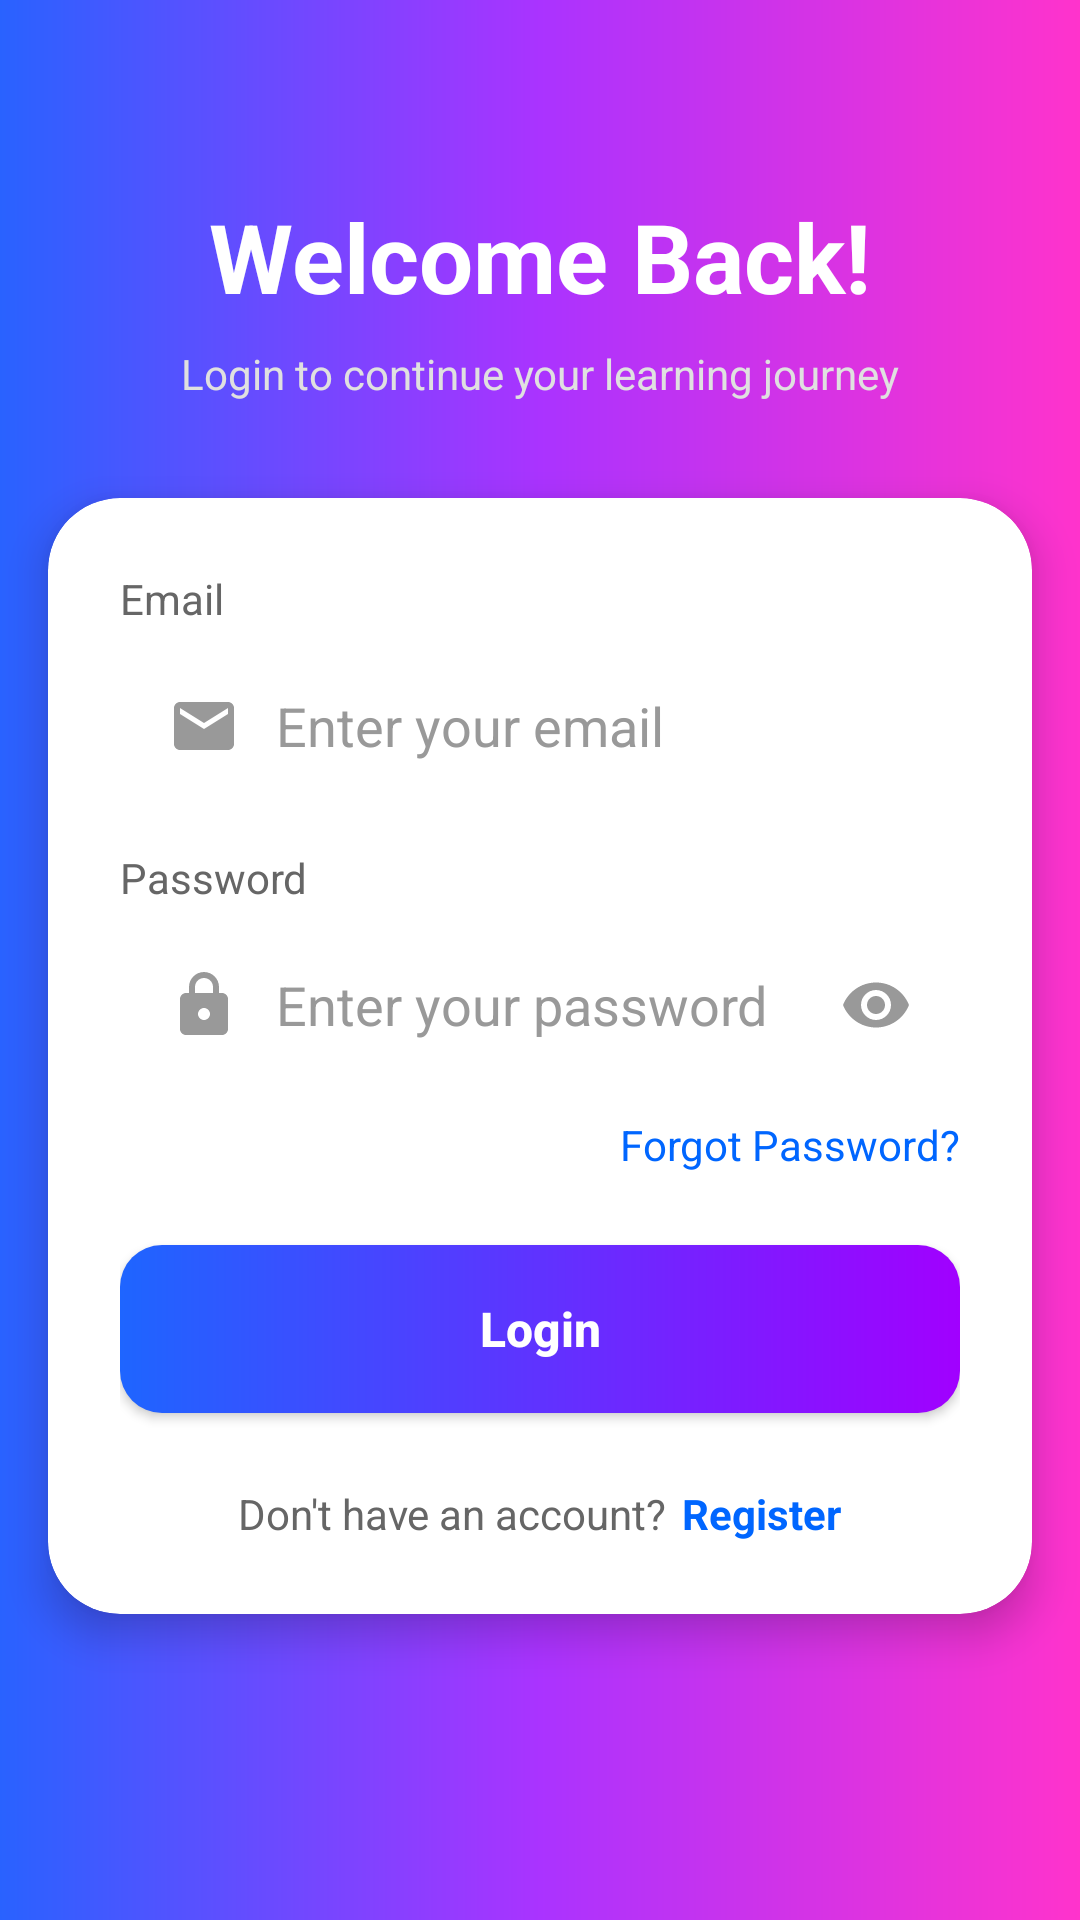

Icon click points for this 1080x1920 phone screenshot, format (x,y):
eye: (876,1005)
